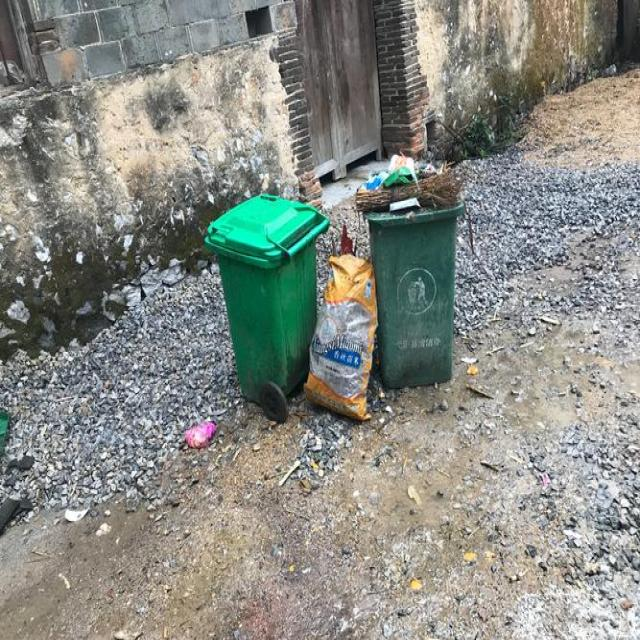garbage: (302, 225, 377, 420), (183, 419, 216, 448)
garbage_bin: (205, 192, 328, 403)
overflow: (355, 152, 464, 388)
